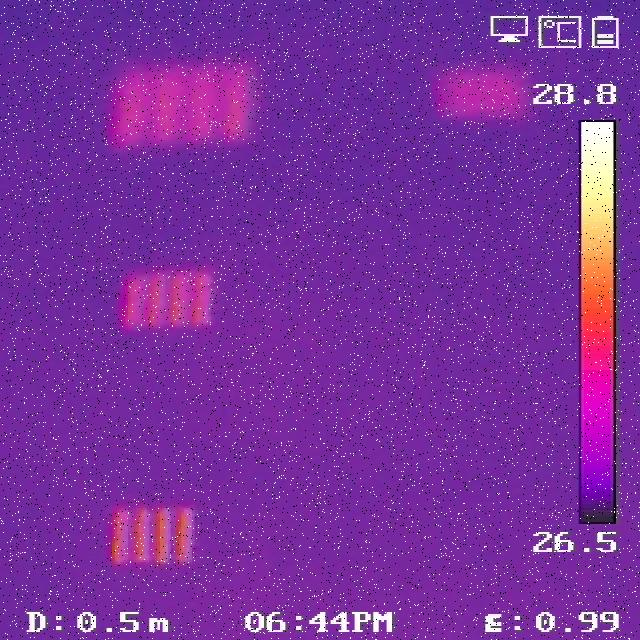Distinguishable 4-bar target: (102, 497, 202, 568), (118, 263, 214, 329)
Indistinguishable 4-bar target: (440, 60, 533, 121)
threshold 4-bar target: (113, 62, 259, 147)
